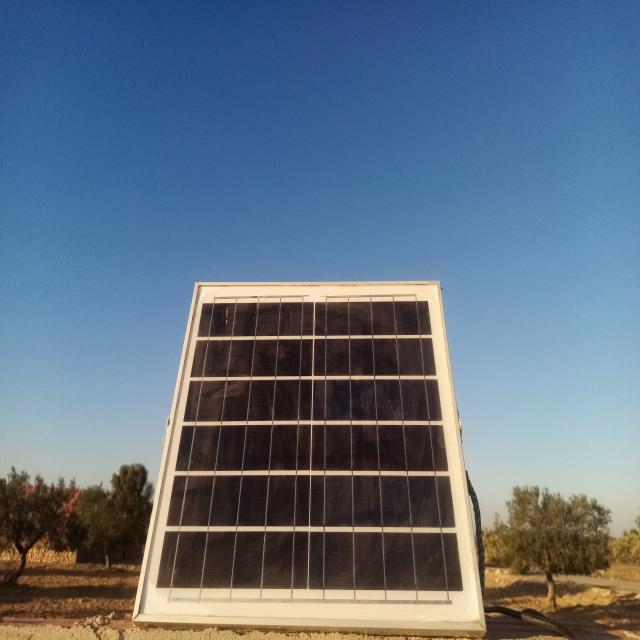faulty: (134, 283, 483, 626)
